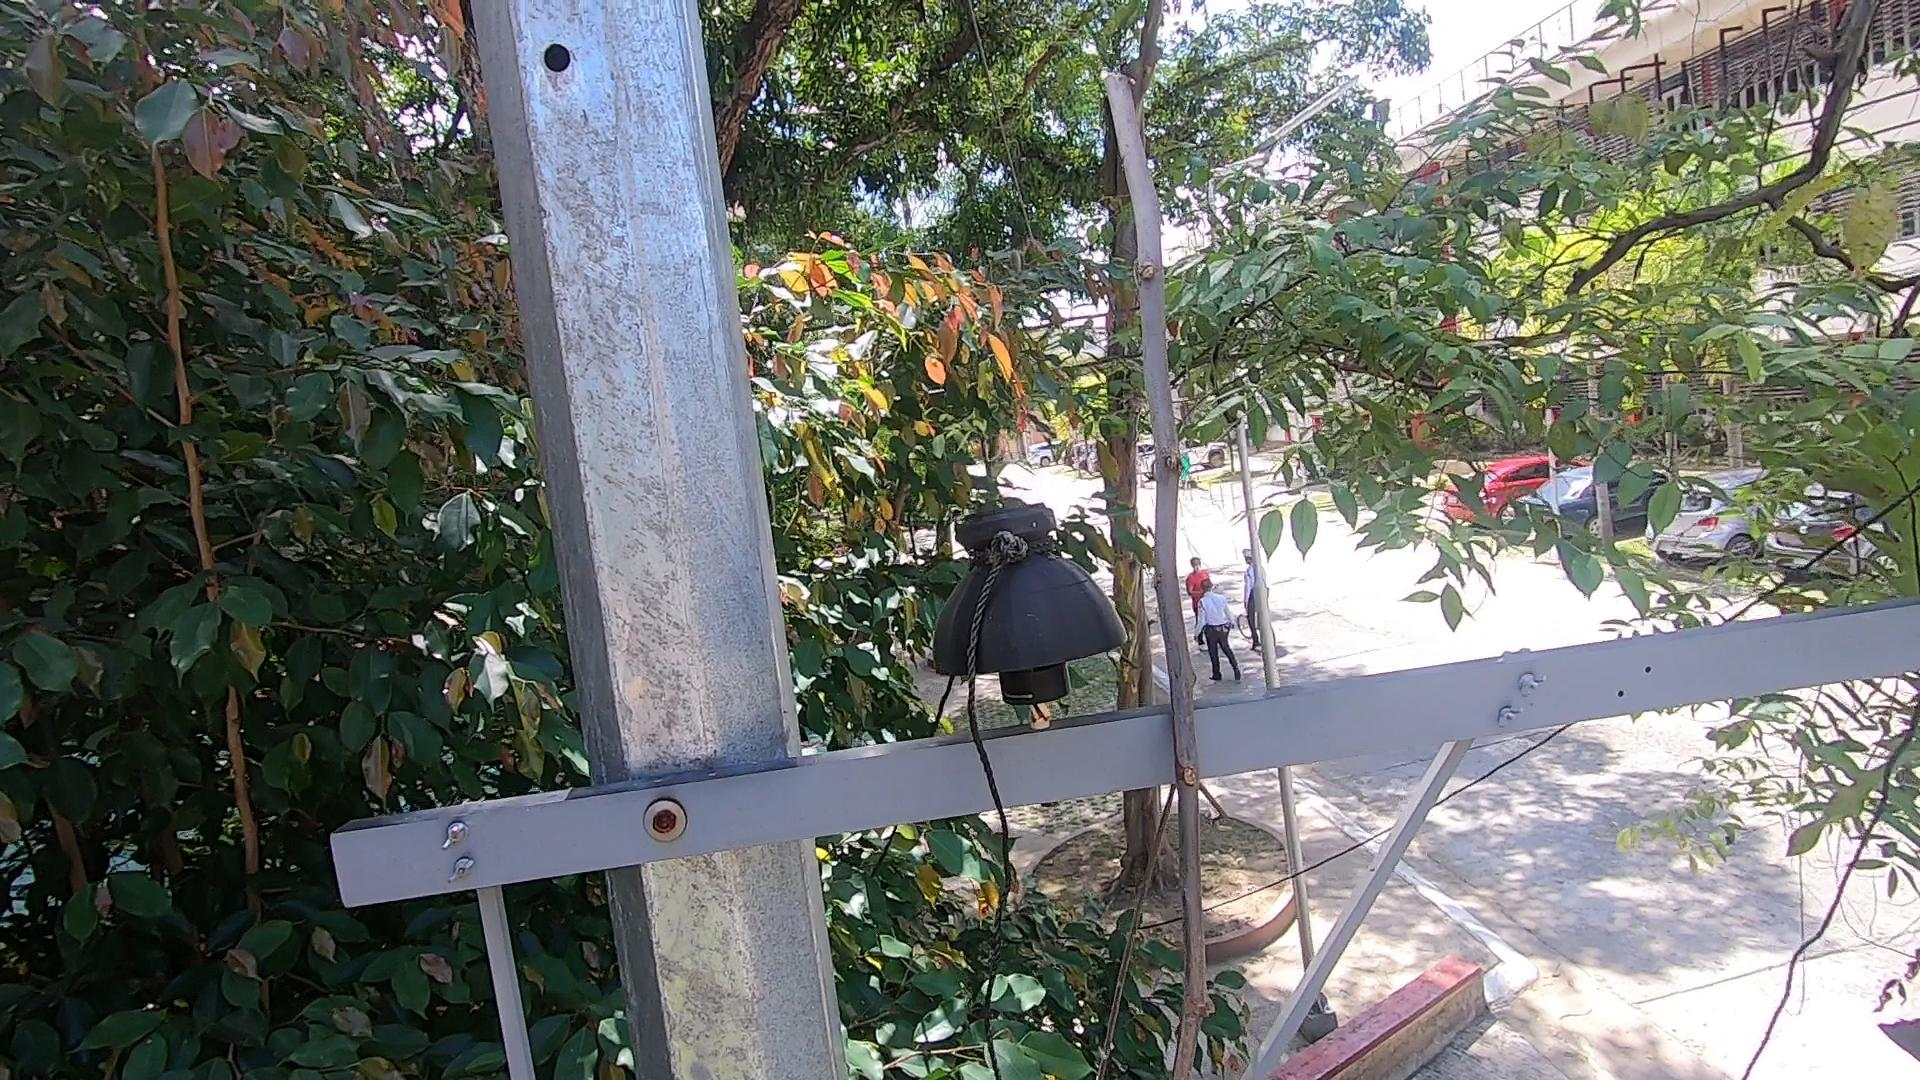tree branch: (1047, 40, 1327, 1080)
